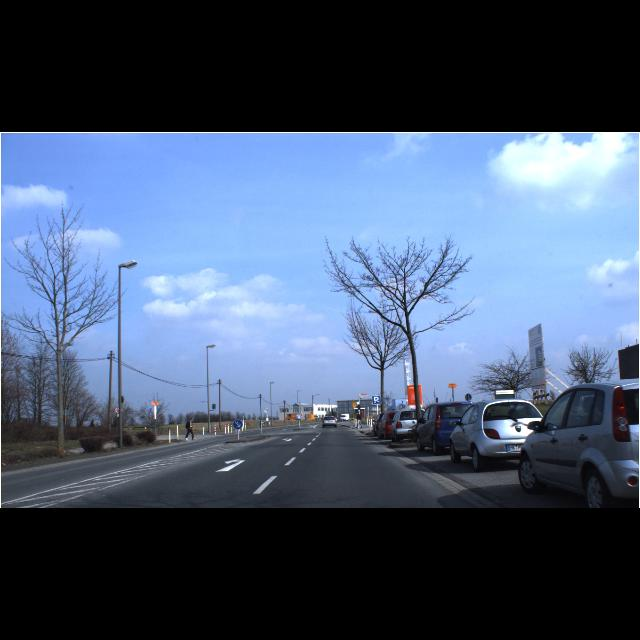mandatory: (233, 420, 243, 430)
